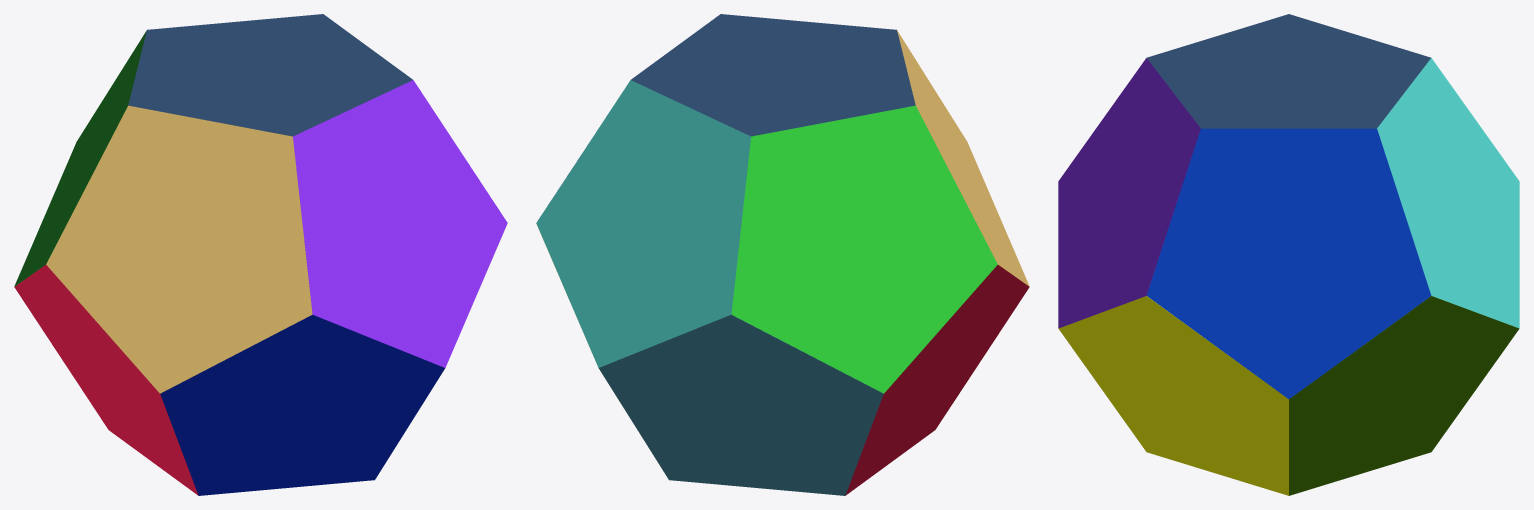
File: dodeca.glb
3 renders of one model, left to right at view 1: azimuth 30°, elevation 25°; view 2: azimuth 150°, elevation 25°; view 3: azimuth 270°, elevation 25°, orthographic. The views are drawn at different scales.
Parts seen in each view (by area): view 1: Deco_v3_Deco_v3_Side_12, Deco_v3_Deco_v3_Side_10, Deco_v3_Deco_v3_Side_11, Deco_v3_Deco_v3_Side_5, Deco_v3_Deco_v3_Side_2, Deco_v3_Deco_v3_Side_6; view 2: Deco_v3_Deco_v3_Side_6, Deco_v3_Deco_v3_Side_3, Deco_v3_Deco_v3_Side_7, Deco_v3_Deco_v3_Side_5, Deco_v3_Deco_v3_Side_2, Deco_v3_Deco_v3_Side_12; view 3: Deco_v3_Deco_v3_Side_4, Deco_v3_Deco_v3_Side_9, Deco_v3_Deco_v3_Side_8, Deco_v3_Deco_v3_Side_3, Deco_v3_Deco_v3_Side_10, Deco_v3_Deco_v3_Side_5.
Part boxes in pixels (bbox=[...]): Deco_v3_Deco_v3_Side_12: bbox=[46, 105, 312, 393]; Deco_v3_Deco_v3_Side_10: bbox=[293, 80, 507, 367]; Deco_v3_Deco_v3_Side_11: bbox=[160, 314, 444, 495]; Deco_v3_Deco_v3_Side_5: bbox=[128, 14, 412, 136]; Deco_v3_Deco_v3_Side_2: bbox=[14, 265, 198, 495]; Deco_v3_Deco_v3_Side_6: bbox=[14, 30, 146, 286]; Deco_v3_Deco_v3_Side_6: bbox=[731, 105, 997, 393]; Deco_v3_Deco_v3_Side_3: bbox=[536, 80, 750, 367]; Deco_v3_Deco_v3_Side_7: bbox=[599, 314, 883, 495]; Deco_v3_Deco_v3_Side_5: bbox=[631, 14, 915, 136]; Deco_v3_Deco_v3_Side_2: bbox=[845, 265, 1029, 495]; Deco_v3_Deco_v3_Side_12: bbox=[897, 30, 1029, 286]; Deco_v3_Deco_v3_Side_4: bbox=[1146, 128, 1431, 398]; Deco_v3_Deco_v3_Side_9: bbox=[1289, 296, 1519, 495]; Deco_v3_Deco_v3_Side_8: bbox=[1058, 296, 1288, 495]; Deco_v3_Deco_v3_Side_3: bbox=[1377, 58, 1519, 328]; Deco_v3_Deco_v3_Side_10: bbox=[1058, 58, 1200, 328]; Deco_v3_Deco_v3_Side_5: bbox=[1147, 14, 1430, 128].
Bounding box in the file's own units: 48.2 × 38.96 × 45.85.
